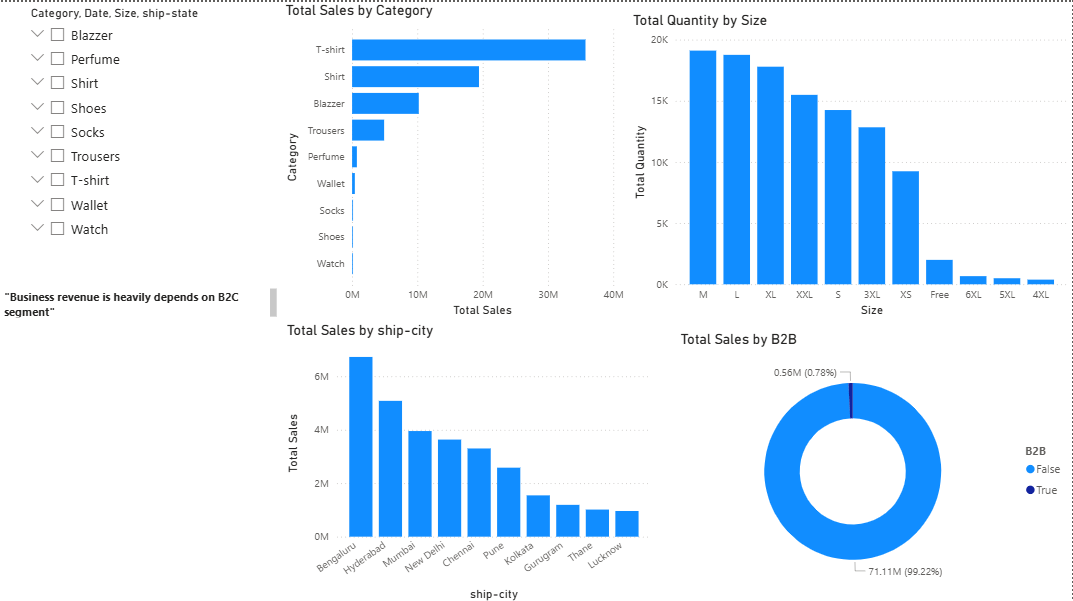

The dashboard page shown, as its layout file describes it:
{"tool":"powerbi","page":{"name":"Page 2","canvas":[1280,720],"ordinal":1},"visuals":[{"type":"barChart","fields":{"Category":["Amazon Sale Report.Category"],"Y":["Amazon Sale Report.Total Sales"]},"box":[336.2,0,413.8,381.2],"z":0},{"type":"columnChart","fields":{"Category":["Amazon Sale Report.Size"],"Y":["Amazon Sale Report.Total Quantity"]},"box":[750.6,12.3,529.7,369.1],"z":1000},{"type":"columnChart","fields":{"Category":["Amazon Sale Report.ship-city"],"Y":["Amazon Sale Report.Total Sales"]},"box":[336.7,381.7,445,338.3],"z":2000},{"type":"donutChart","fields":{"Category":["Amazon Sale Report.B2B"],"Y":["Amazon Sale Report.Total Sales"]},"box":[807.1,392.9,472.9,317.1],"z":3000},{"type":"slicer","fields":{"Values":["Amazon Sale Report.Category","Amazon Sale Report.Date","Amazon Sale Report.Size","Amazon Sale Report.ship-state"]},"box":[23.9,0,263.4,360.6],"z":4000},{"type":"textbox","box":[0,337.1,335.7,44.3],"z":5000}]}

Visuals, with their boxes in screenshot pixels (x1, y1, x2, y2), scaled from the page's 1280x720 canvas onto the 1073x601 screenshot:
barChart - Amazon Sale Report.Category x Amazon Sale Report.Total Sales: select_region(282, 0, 629, 318)
columnChart - Amazon Sale Report.Size x Amazon Sale Report.Total Quantity: select_region(629, 10, 1072, 318)
columnChart - Amazon Sale Report.ship-city x Amazon Sale Report.Total Sales: select_region(282, 319, 655, 600)
donutChart - Amazon Sale Report.B2B x Amazon Sale Report.Total Sales: select_region(677, 328, 1072, 593)
slicer - Amazon Sale Report.Category x Amazon Sale Report.Date: select_region(20, 0, 241, 301)
textbox: select_region(0, 281, 281, 318)
